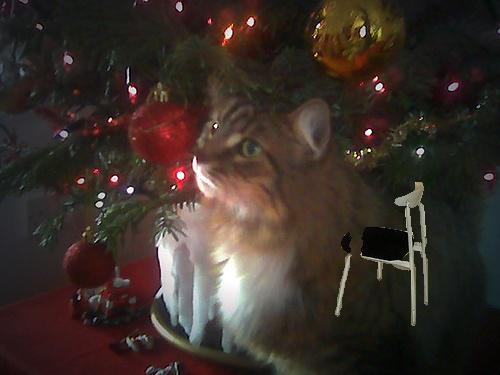tampered: (336, 183, 428, 326)
